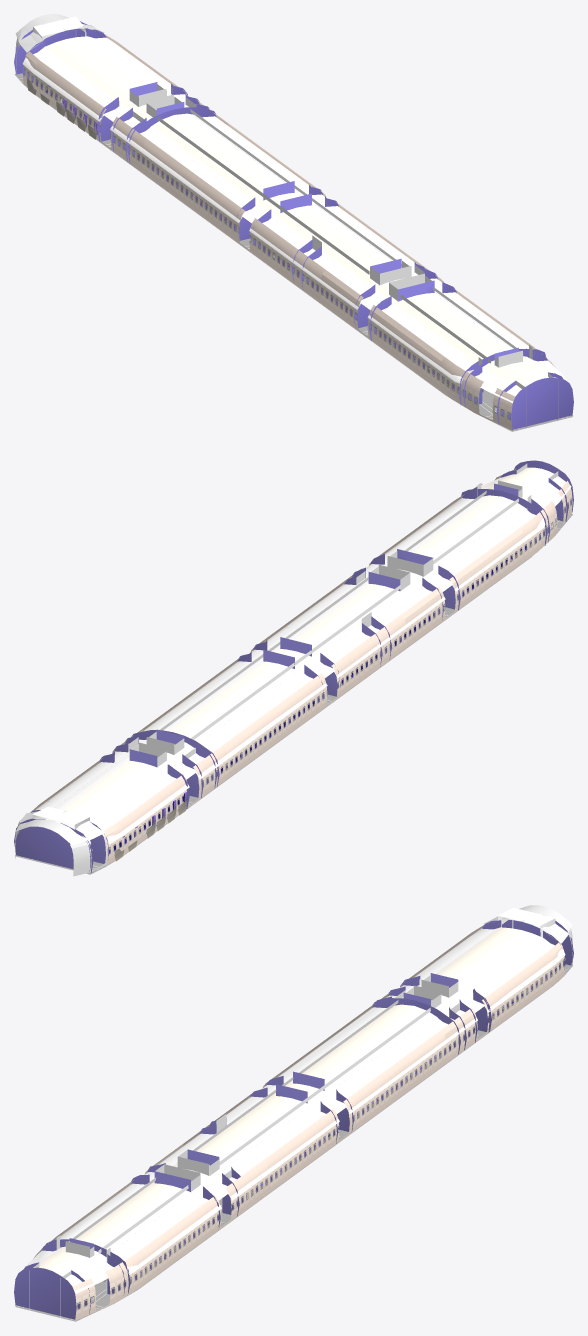
The picture shows the model from 3 angles, top to bottom: view 1: azimuth 30°, elevation 25°; view 2: azimuth 150°, elevation 25°; view 3: azimuth 330°, elevation 25°; orthographic projection.
Visible parts, largest first — view 1: static-material-2, static-material-0, static-material-3, static-material-4, static-material-9, static-material-1; view 2: static-material-2, static-material-0, static-material-3, static-material-4, static-material-10, static-material-1; view 3: static-material-2, static-material-3, static-material-0, static-material-4, static-material-1.
Part boxes in pixels (<box>): static-material-2: <box>22,36,572,403</box>; static-material-0: <box>14,14,573,429</box>; static-material-3: <box>23,34,571,430</box>; static-material-4: <box>14,73,573,431</box>; static-material-9: <box>35,76,454,389</box>; static-material-1: <box>33,16,83,36</box>; static-material-2: <box>35,467,571,843</box>; static-material-0: <box>14,460,573,876</box>; static-material-3: <box>31,468,572,865</box>; static-material-4: <box>15,514,572,874</box>; static-material-10: <box>109,542,531,853</box>; static-material-1: <box>33,806,89,824</box>; static-material-2: <box>26,927,565,1293</box>; static-material-3: <box>16,925,565,1320</box>; static-material-0: <box>14,905,573,1319</box>; static-material-4: <box>15,964,572,1321</box>; static-material-1: <box>498,907,554,925</box>.
Size of the model in its own units: 6.12 by 3.02 by 56.97.
Materials: 11 (10 with a texture image).
